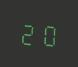two: (19, 18, 37, 46)
zero: (38, 19, 56, 47)
